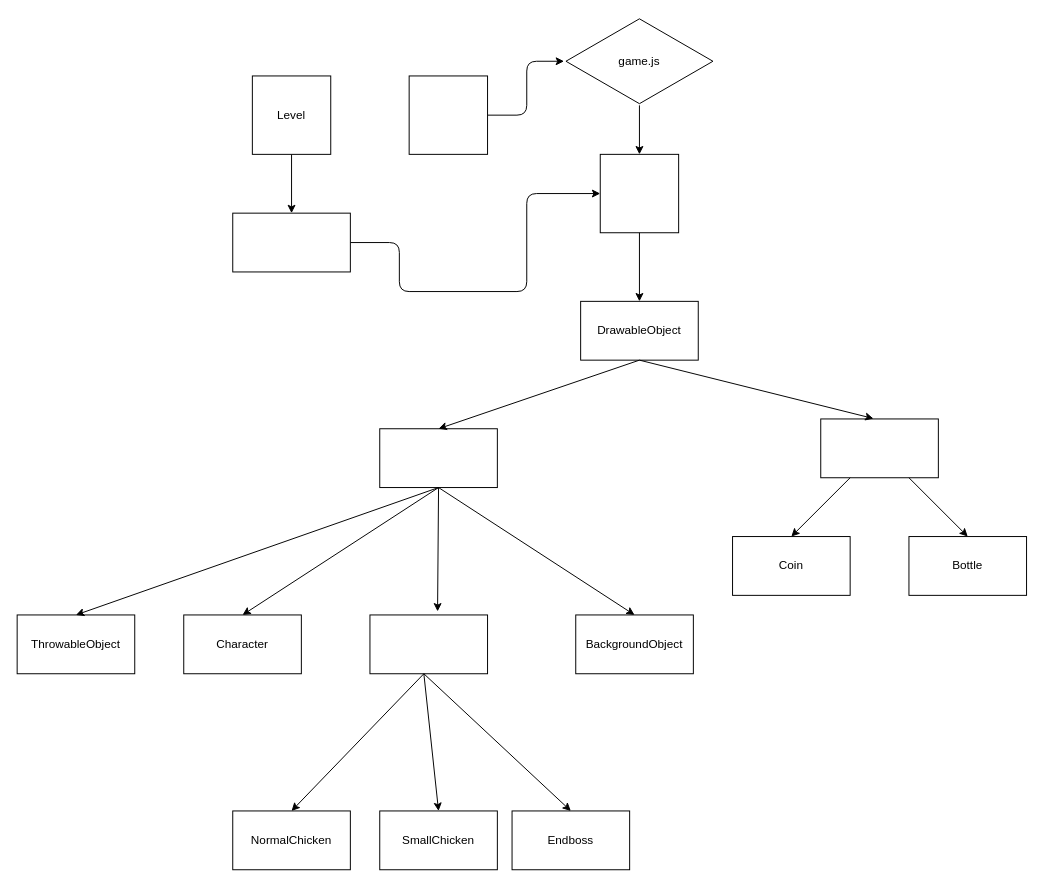
Image size: 1044x887. Some labels were removed from this diagram. The shapes that lost their labels are listed below. From the top down, each one's centre as x and y in pixels, then its label:
At pixel 448 114: "Keyboard".
At pixel 639 193: "World".
At pixel 291 242: "level1.js".
At pixel 438 458: "MovableObject".
At pixel 879 448: "CollectableItem".
At pixel 428 644: "Chicken".
